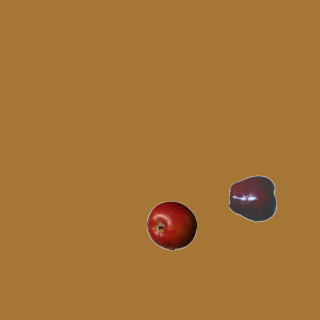Apple Braeburn: (146, 200, 196, 250)
Apple Red Delicious: (228, 173, 278, 223)
